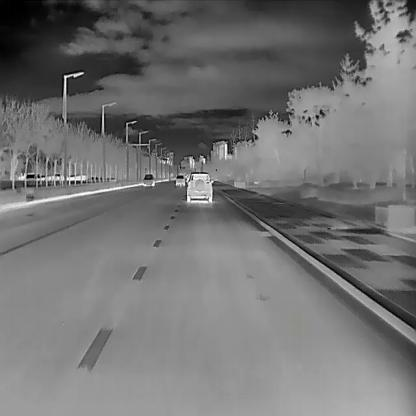car: (186, 172, 213, 202), (142, 173, 154, 186), (174, 174, 184, 185)
